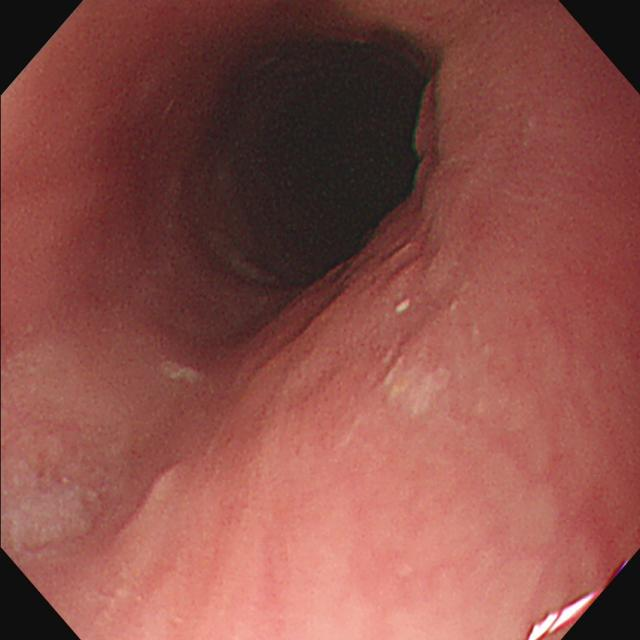E: (172, 19, 447, 303)
J: (379, 348, 452, 416), (162, 361, 206, 388)
U: (528, 591, 598, 640)
